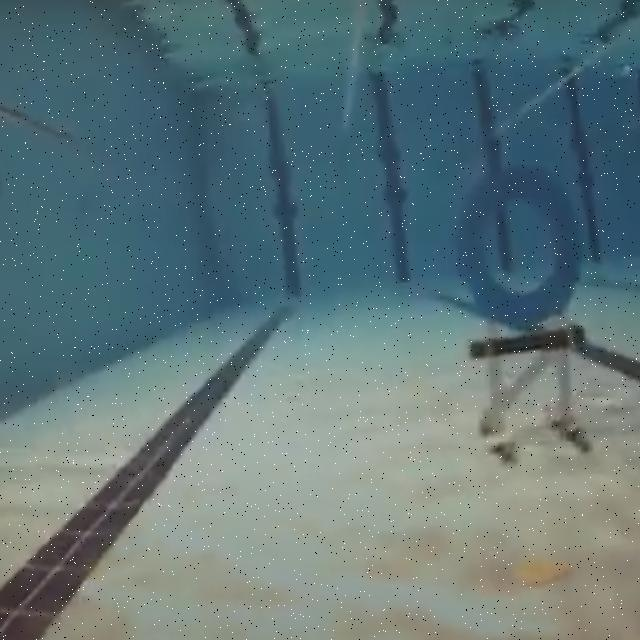Circle: (457, 160, 583, 330)
